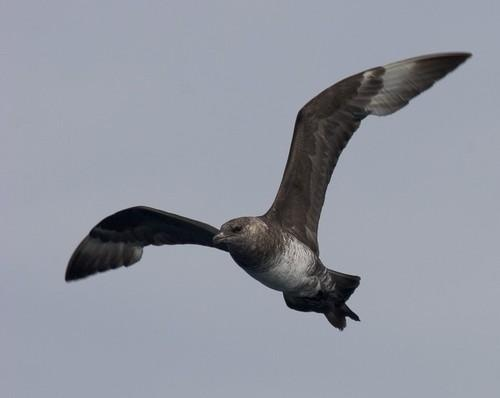bird: (63, 50, 469, 335)
